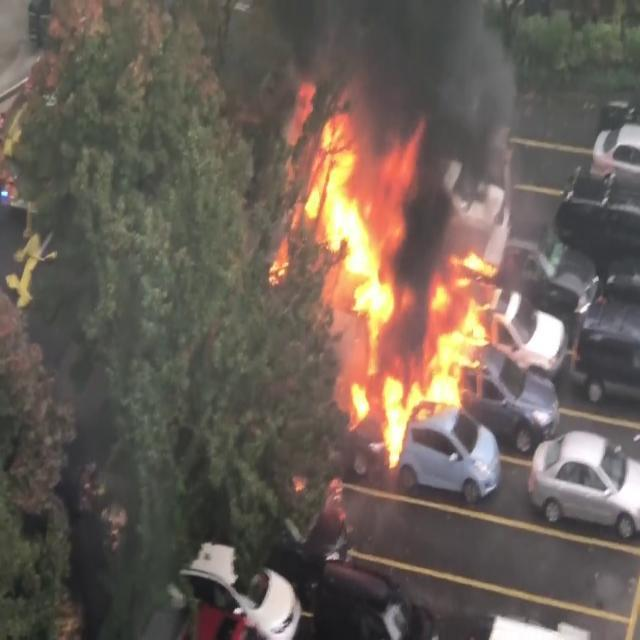Fire: (263, 94, 527, 457)
Smoke: (183, 0, 531, 162)
